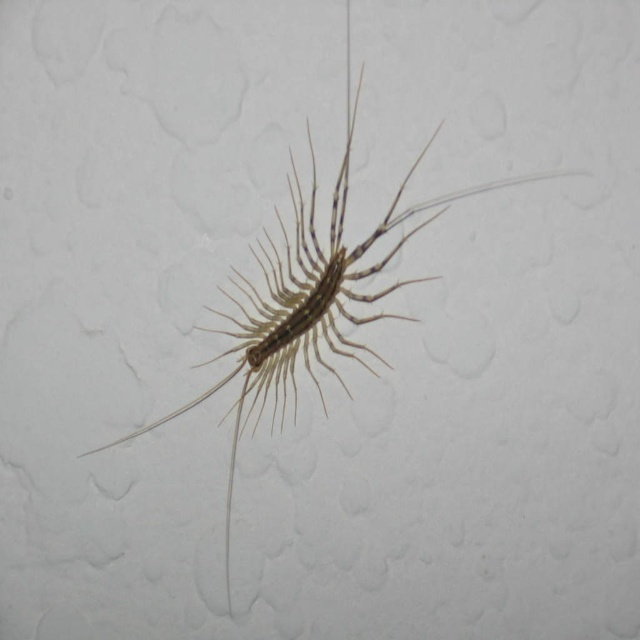Centipede: (78, 63, 444, 606)
